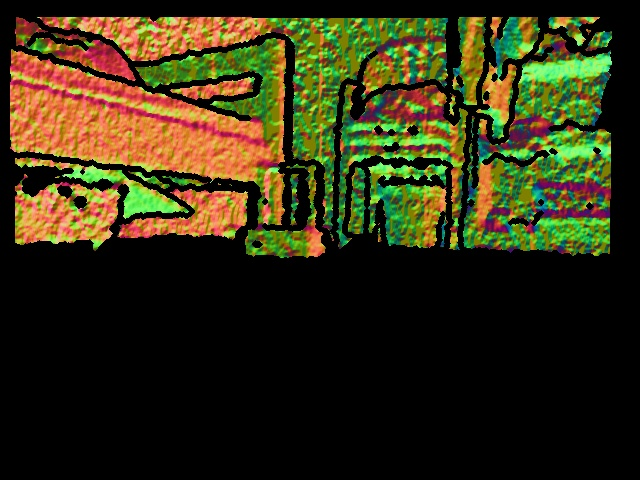station: (242, 162, 330, 261)
